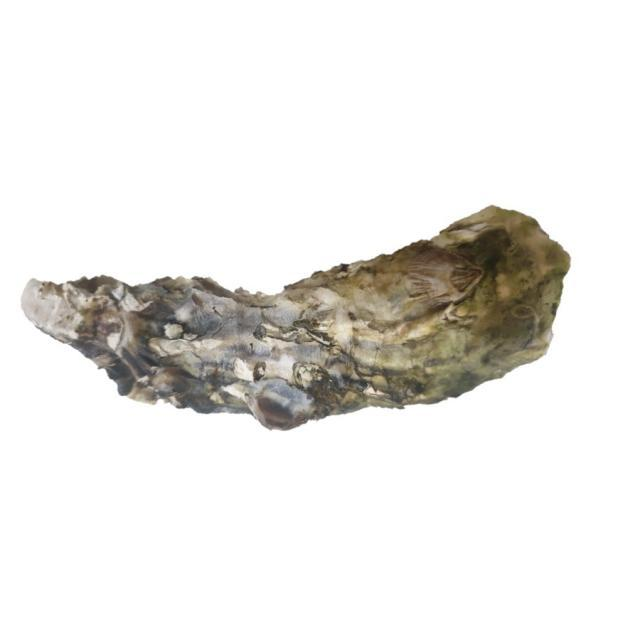Oyster- Indeterminate: (19, 190, 582, 438)
